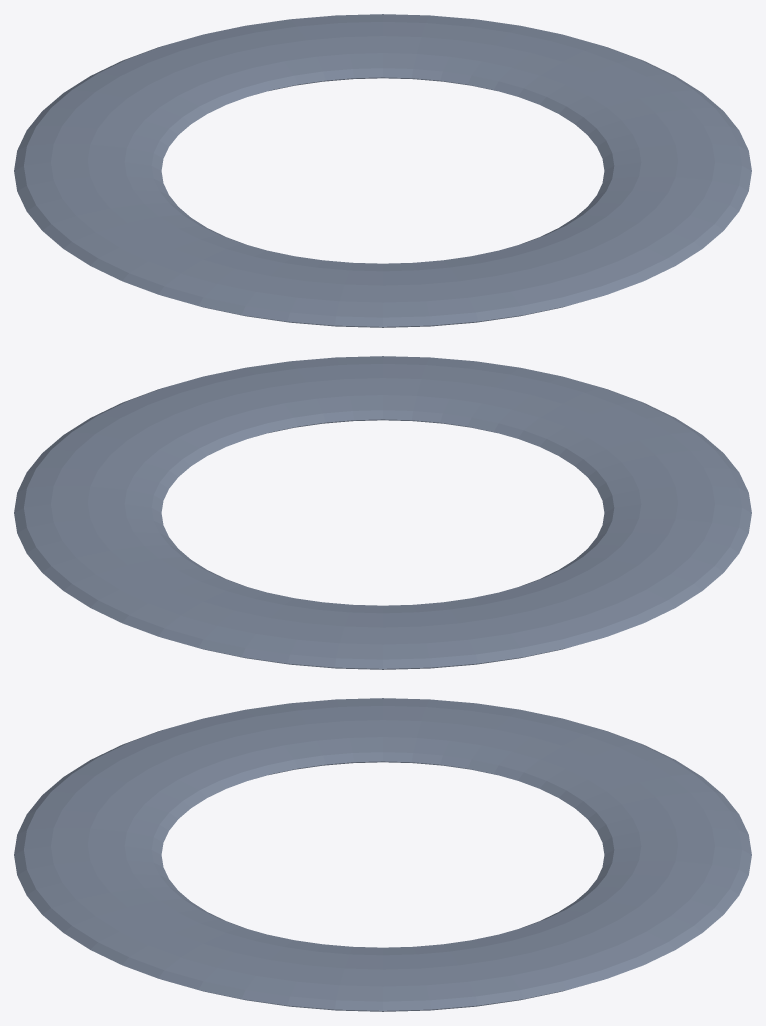
File: UA_Ceiling_Ring.fbx
3 renders of one model, top to bottom at view 1: azimuth 30°, elevation 25°; view 2: azimuth 150°, elevation 25°; view 3: azimuth 270°, elevation 25°, orthographic.
Visible parts, largest first — view 1: UA_Ceiling_Ring; view 2: UA_Ceiling_Ring; view 3: UA_Ceiling_Ring.
Boxes of the visible parts, x1=… form: UA_Ceiling_Ring: x1=14, y1=14, x2=751, y2=327; UA_Ceiling_Ring: x1=14, y1=356, x2=751, y2=669; UA_Ceiling_Ring: x1=14, y1=698, x2=751, y2=1011.
Size of the model in its own units: 4.6 by 0.14 by 4.6.
